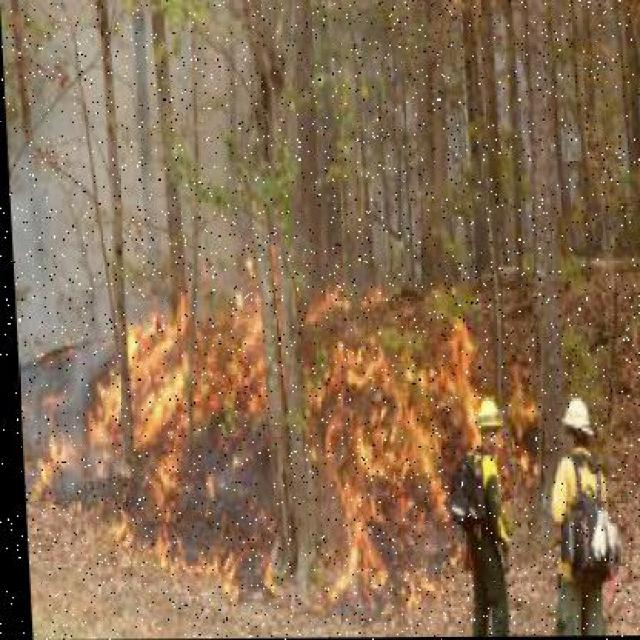fire: (76, 316, 469, 496)
